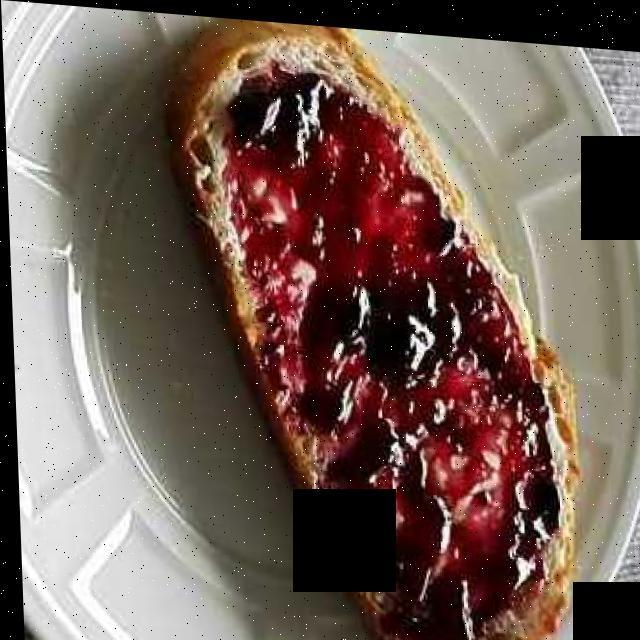bread: (175, 34, 578, 640)
jam: (209, 75, 534, 640)
